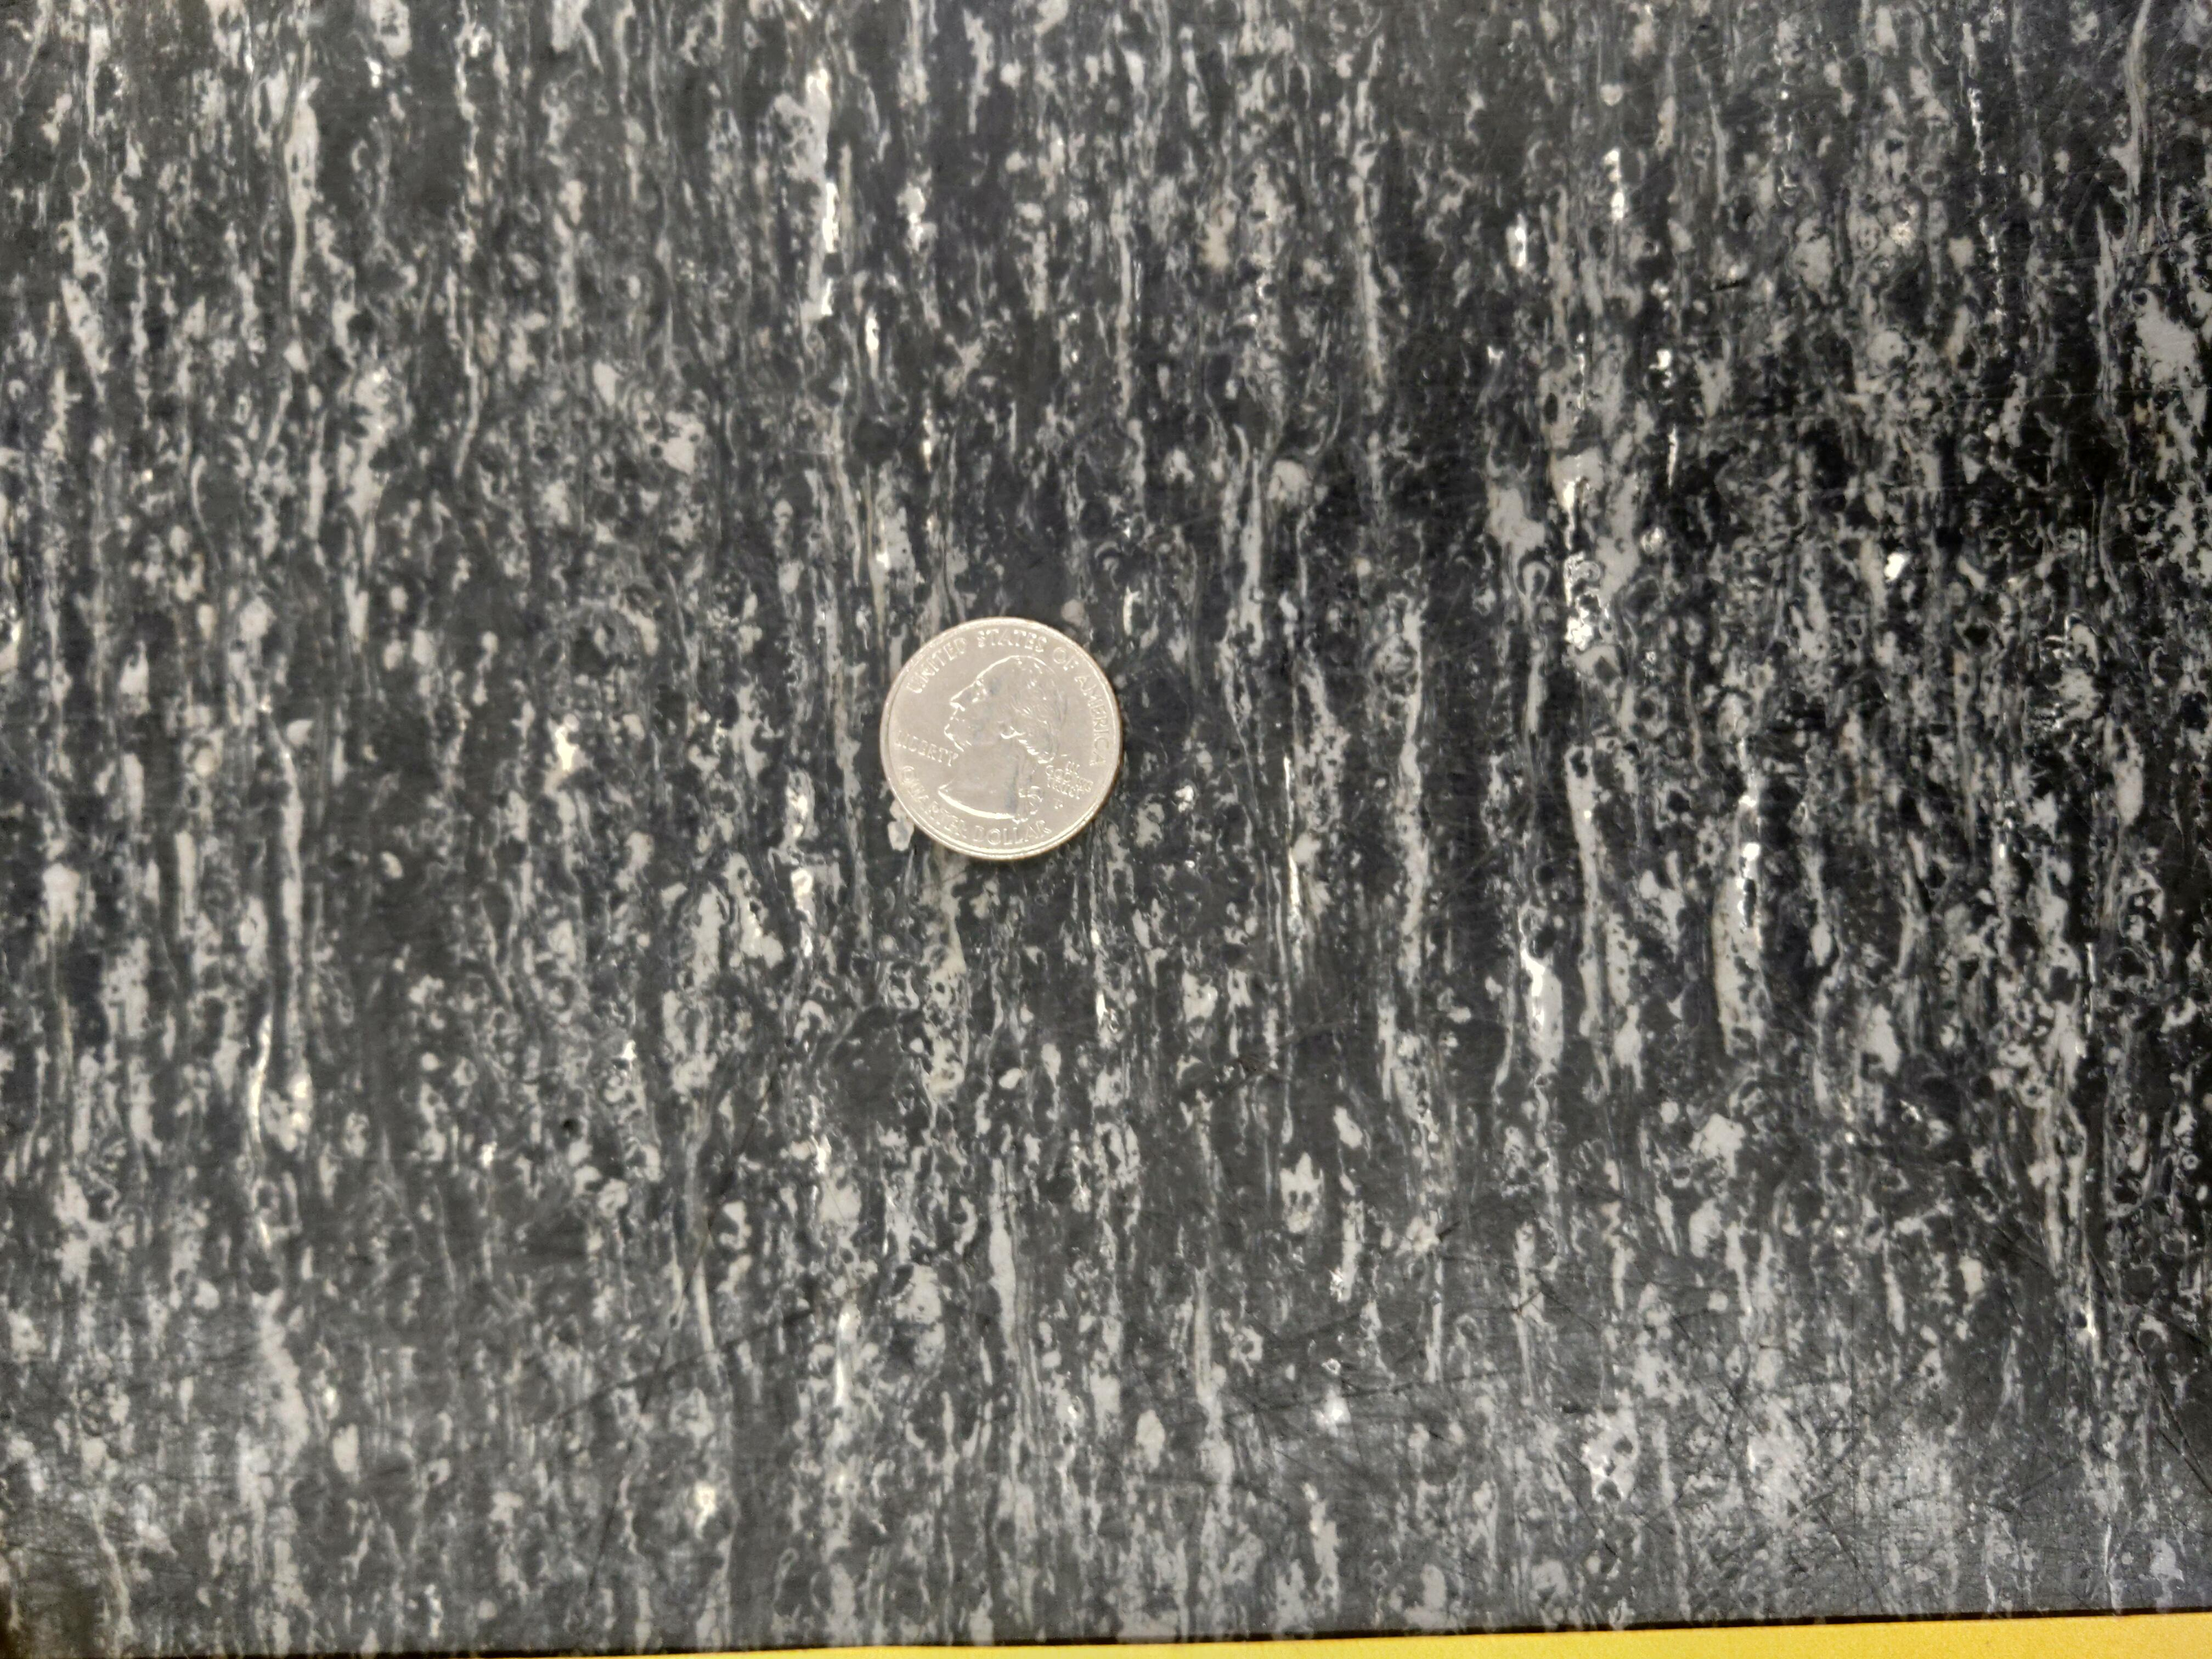Quarter: (878, 615, 1123, 861)
